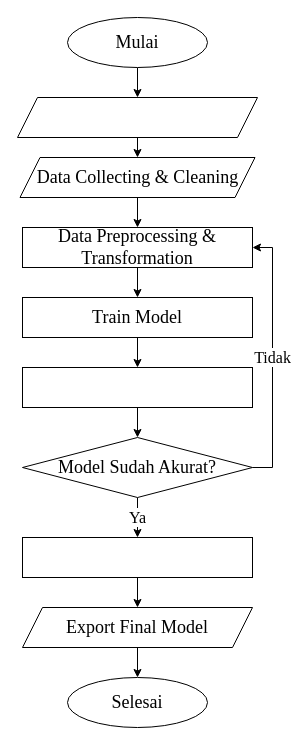
This 308x745 diagram has some shape labels left out. Each missing label, with the box of its shape:
Convert Model ke JSON: (22, 536, 252, 578)
Install & Import Library: (16, 96, 258, 138)
Test Model: (22, 366, 252, 408)
